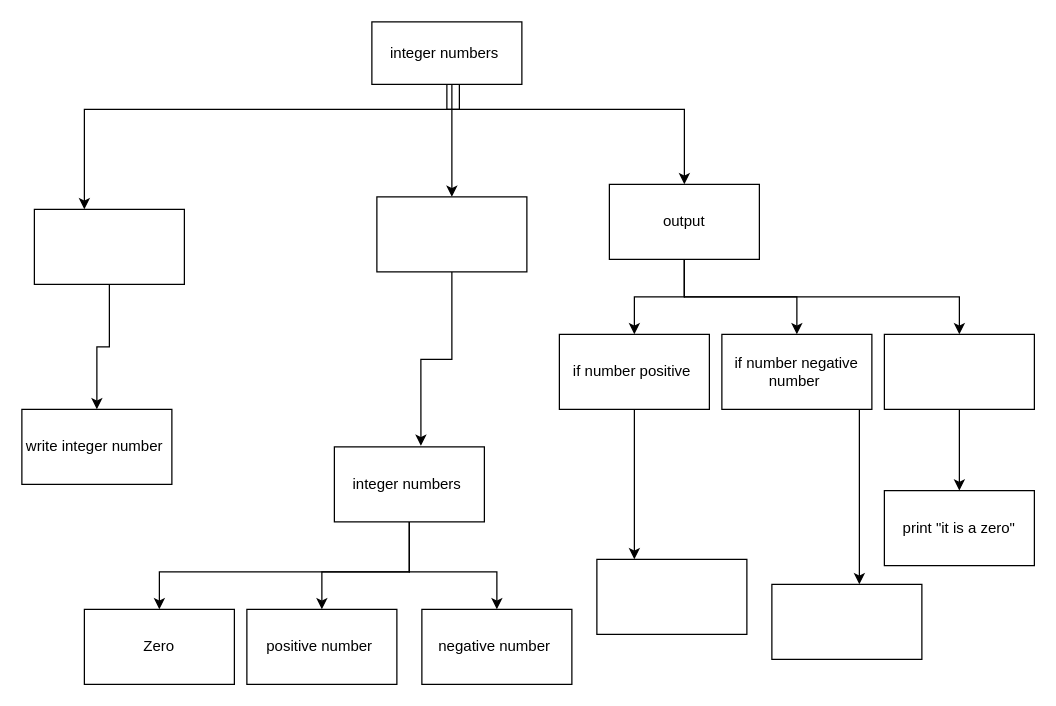
The diagram is 1056 pixels wide and 706 high, and some of its shapes have lost their labels. Here are the shapes that lost their labels. From the top down, the centre of each, then its label:
(x=108, y=246): input
(x=451, y=234): process
(x=958, y=371): if number is zero
(x=671, y=596): print "it is positive number"
(x=846, y=621): print "it is a negative number"
